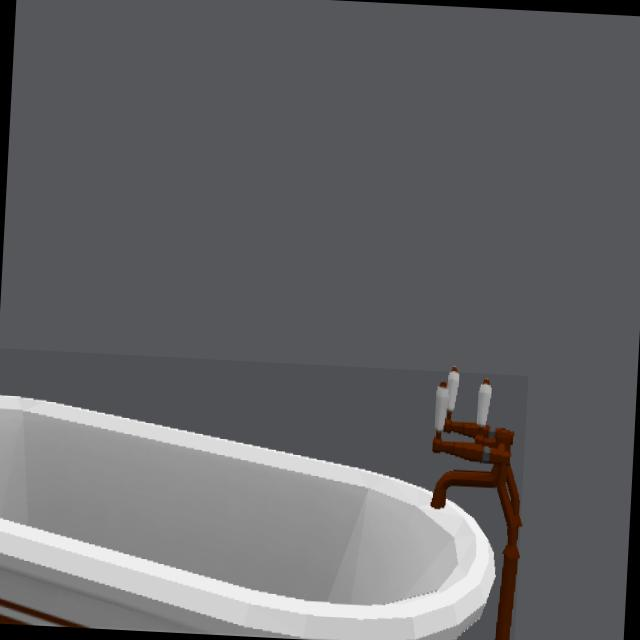bathtube: (0, 372, 521, 640)
